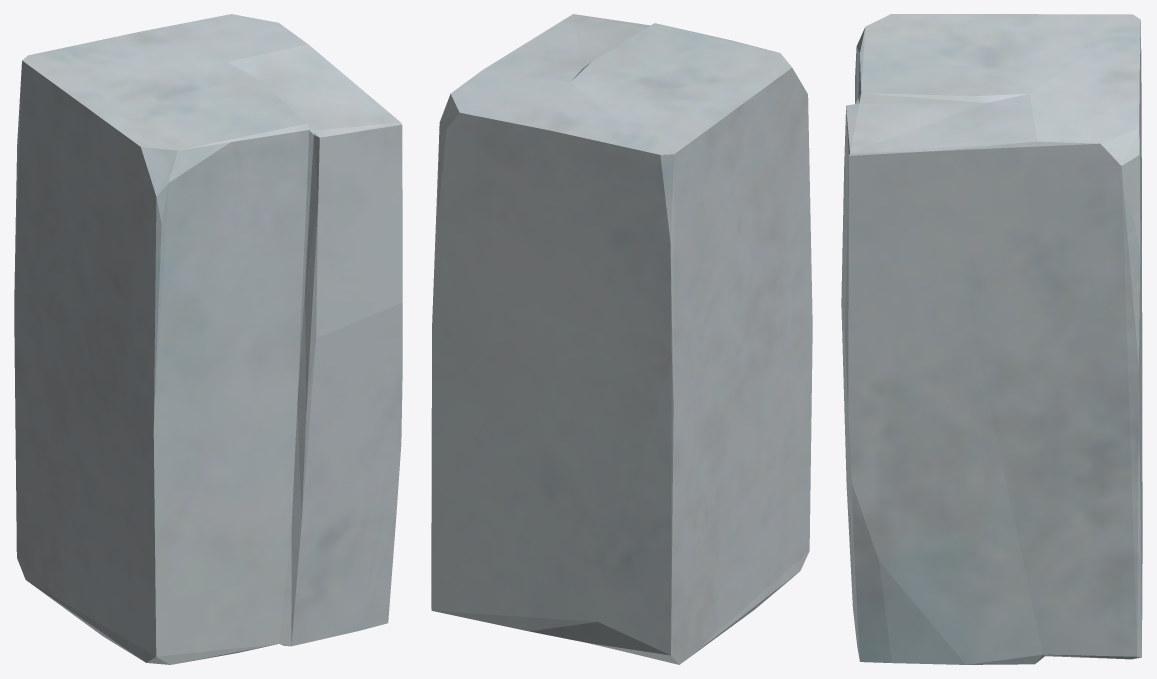
File: P_RockCubic_Metric_2x2x4.obj
The picture shows the model from 3 angles, left to right: view 1: azimuth 30°, elevation 25°; view 2: azimuth 150°, elevation 25°; view 3: azimuth 270°, elevation 25°; orthographic projection. The views are drawn at different scales.
Bounding box in the file's own units: 4.02 × 8.16 × 4.18.
